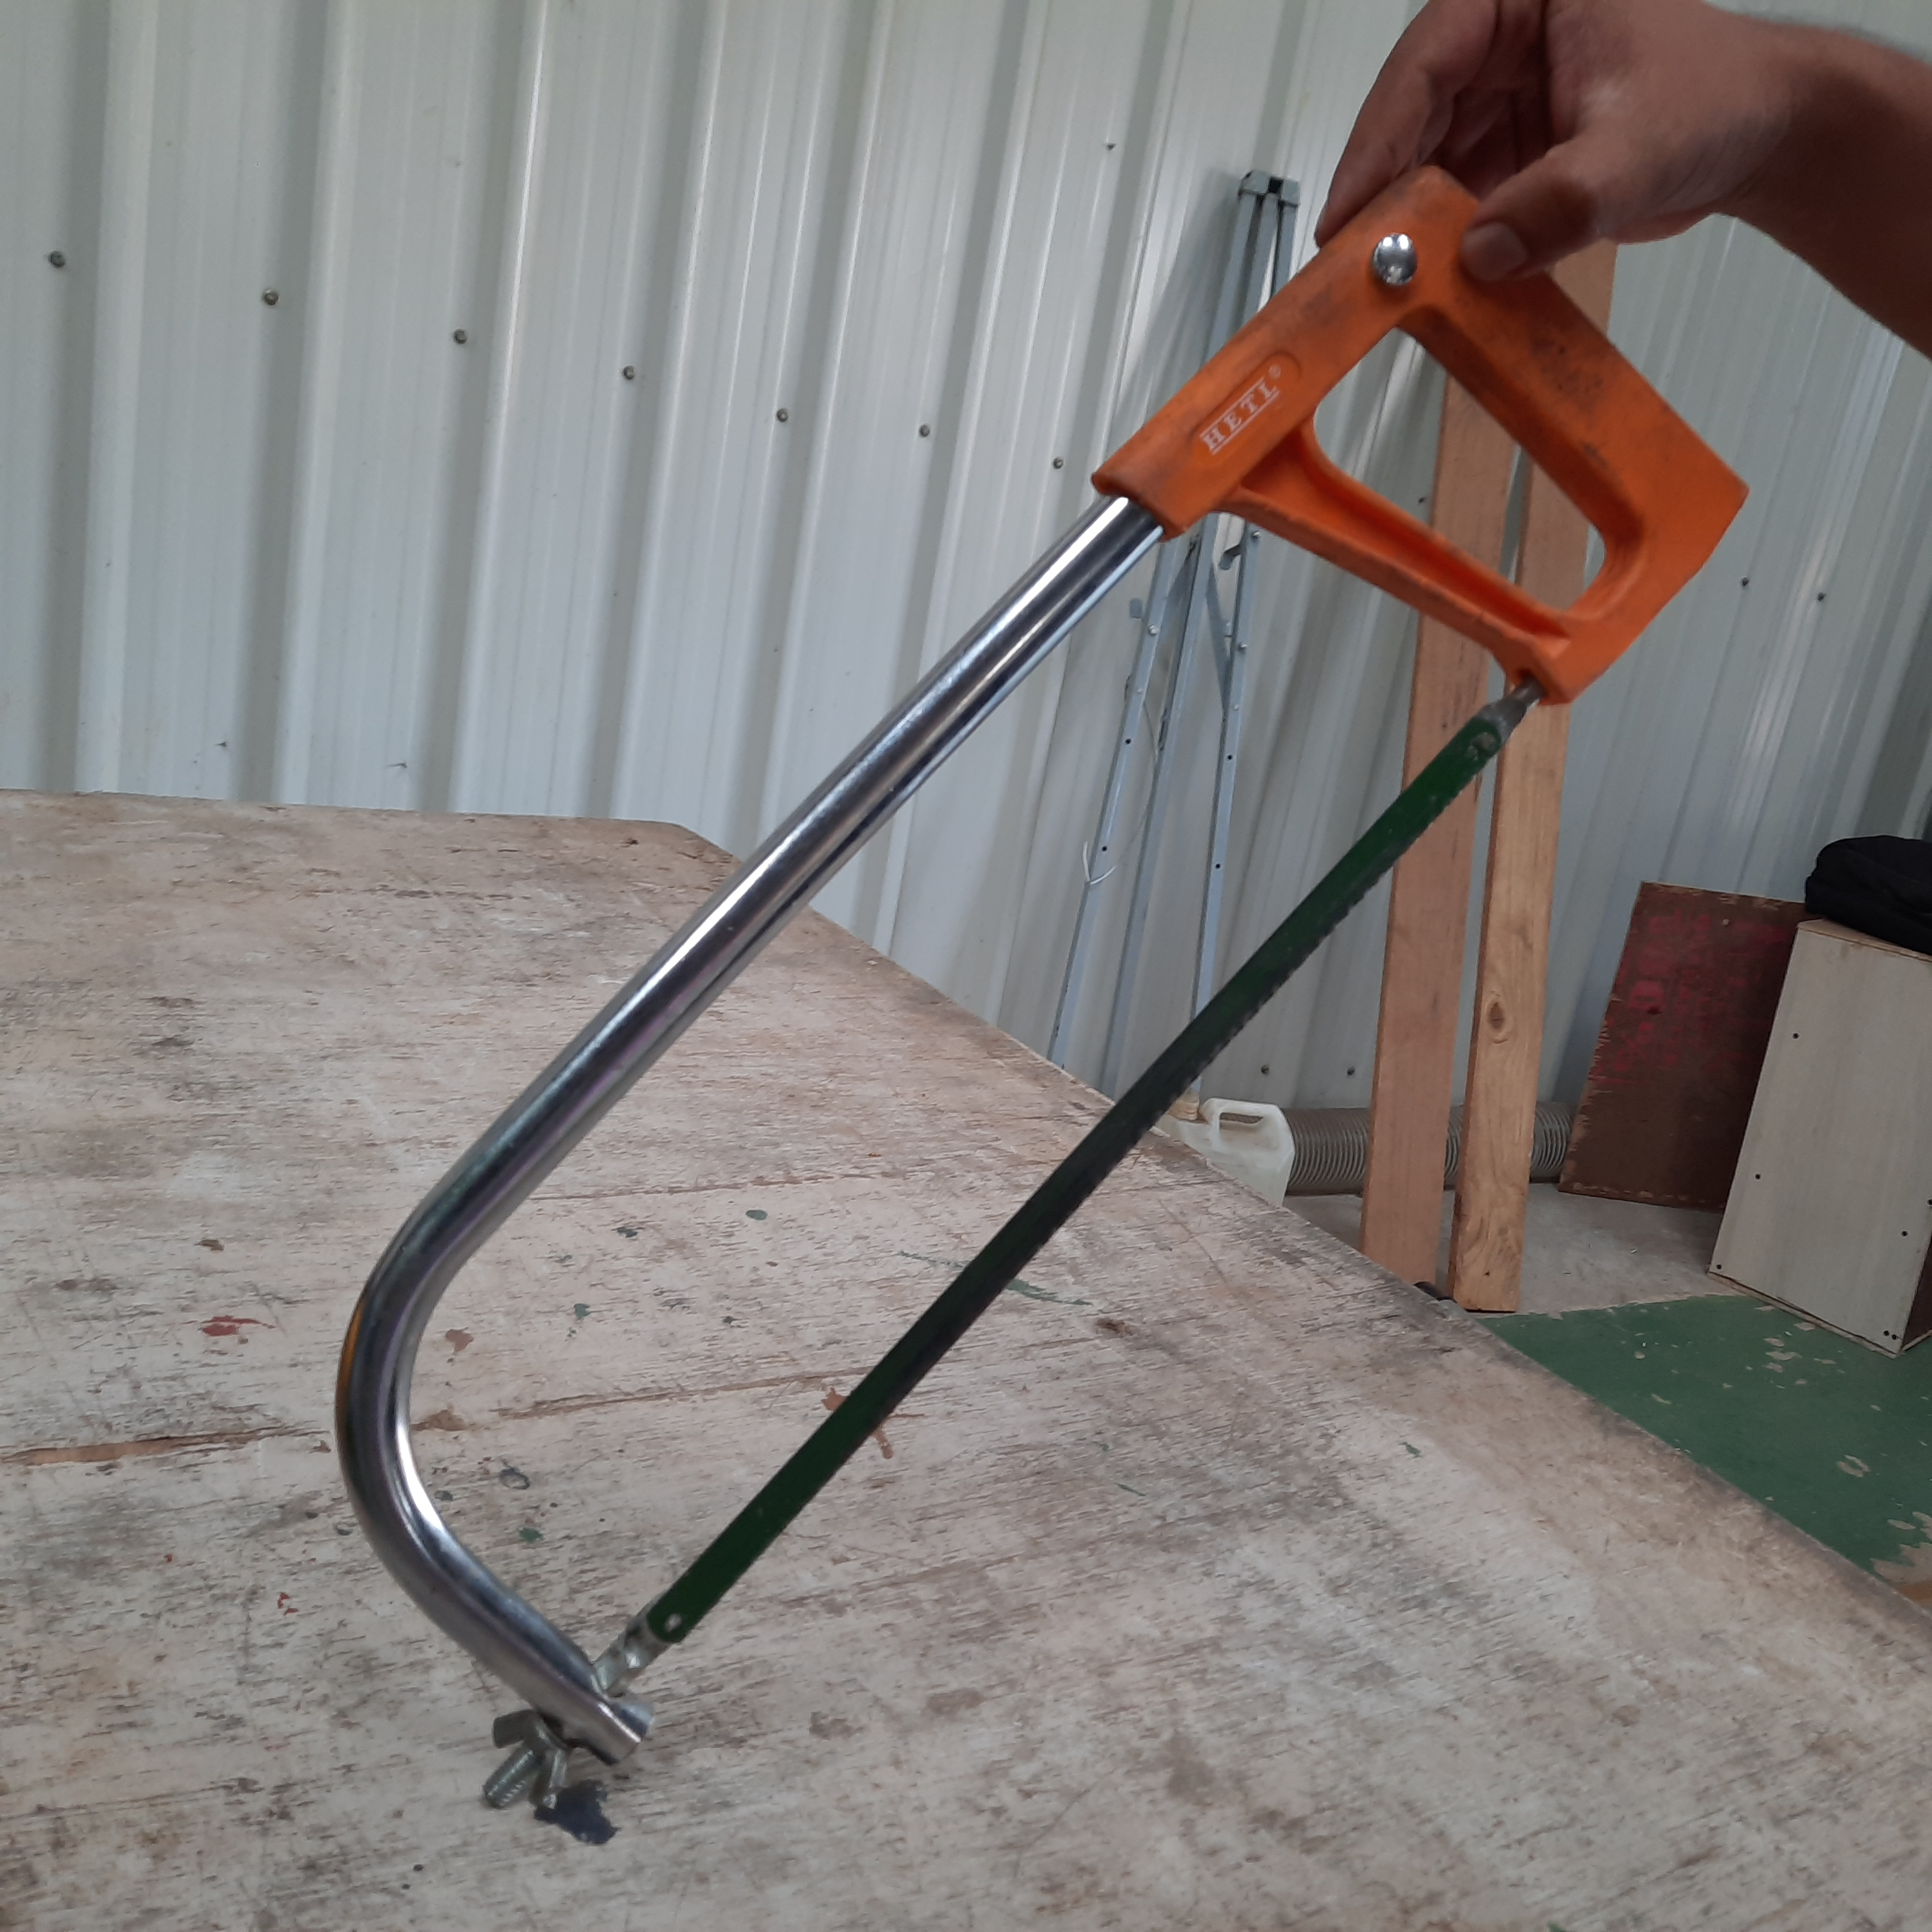Hexaframe: (318, 150, 1762, 1865)
